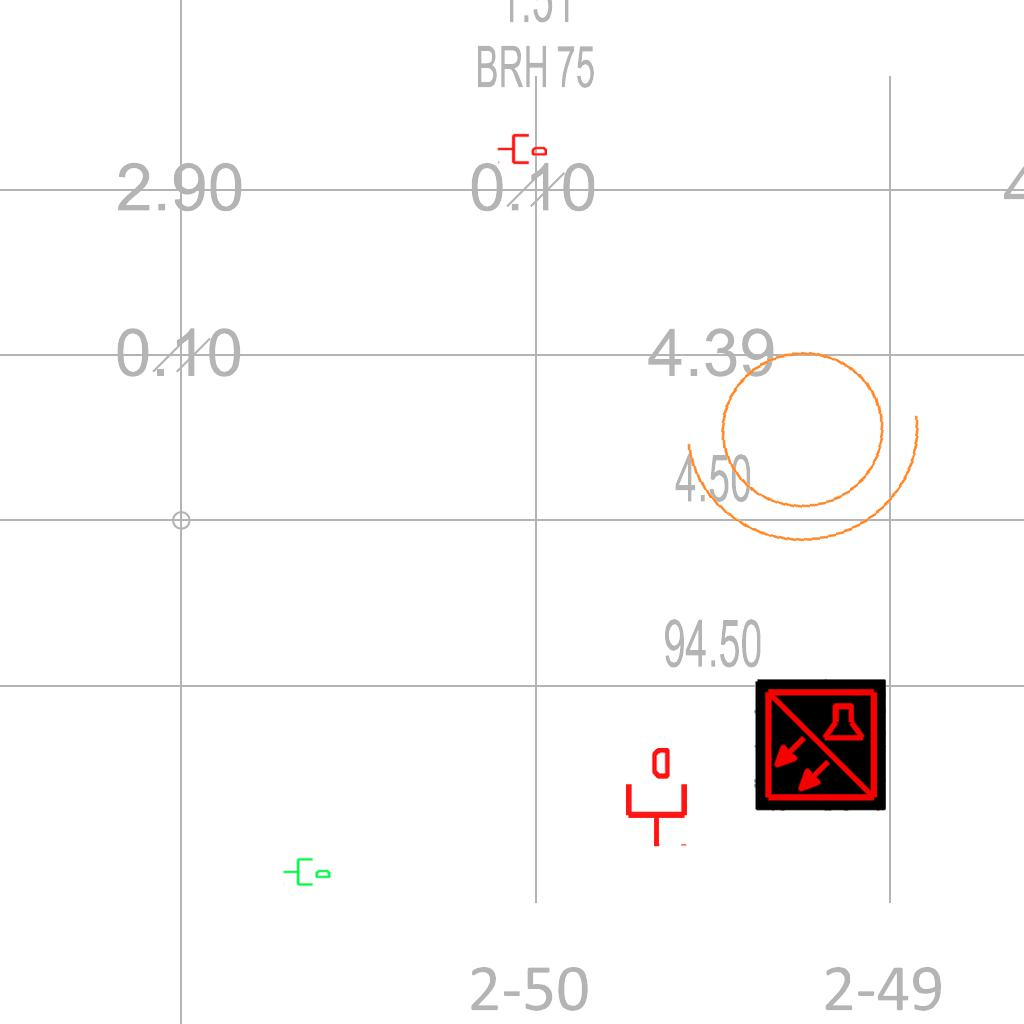Datenanschluss_einfach: (622, 748, 691, 848), (497, 132, 547, 166), (282, 854, 332, 888)
OKW_Multisensormelder_(Kombination_optischer_Rauch-Kahlenmonoxid_Waerme-Melder): (754, 679, 886, 811)
Scheinwerfer_fuer_Alarmbeleuchtung: (665, 310, 955, 567)
